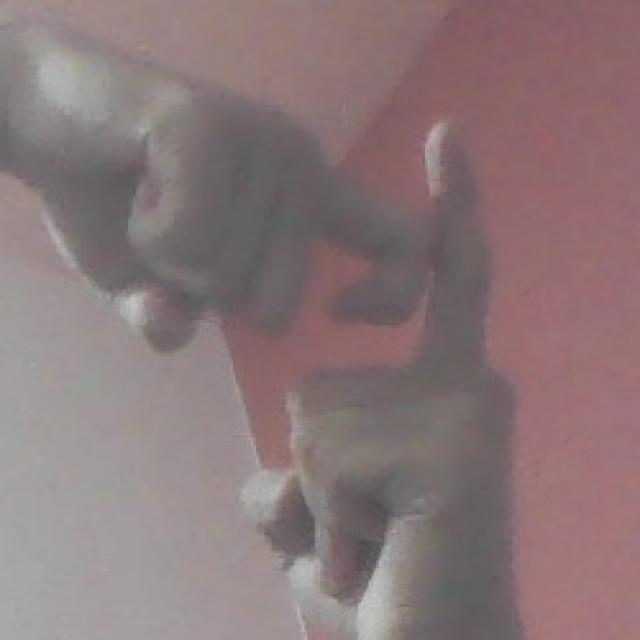Alphabet-K: (40, 12, 528, 638)
